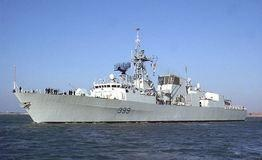warship: (11, 29, 248, 124)
